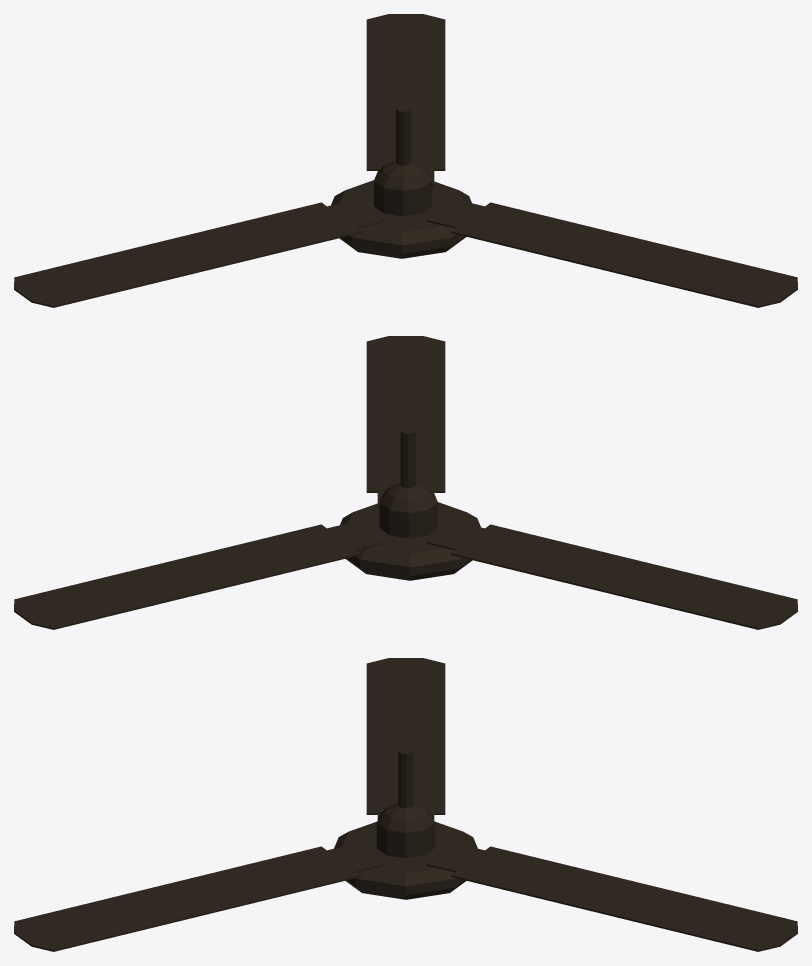
File: ceiling_fan1.glb
3 views of the same model, one above another, from view 1: azimuth 30°, elevation 25°; view 2: azimuth 150°, elevation 25°; view 3: azimuth 270°, elevation 25° (orthographic).
Size of the model in its own units: 8.77 by 1.88 by 9.95.
Materials: 1 (1 with a texture image).
